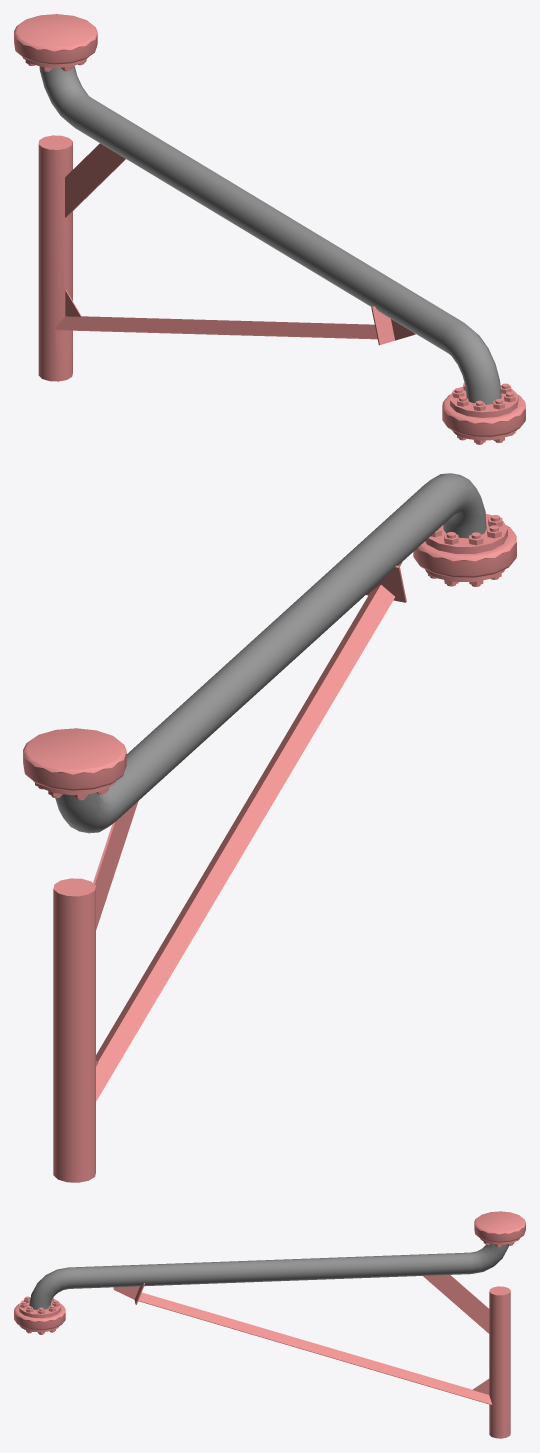
File: SM_SUG_All_Right.gltf
The picture shows the model from 3 angles, top to bottom: view 1: azimuth 30°, elevation 25°; view 2: azimuth 150°, elevation 25°; view 3: azimuth 270°, elevation 25°; orthographic projection. The views are drawn at different scales.
Visible parts, largest first — view 1: SM_SUG_All_Right; view 2: SM_SUG_All_Right; view 3: SM_SUG_All_Right.
Boxes of the visible parts, left/top/right/bottom form: SM_SUG_All_Right: left=14, top=14, right=525, bottom=444; SM_SUG_All_Right: left=23, top=473, right=516, bottom=1182; SM_SUG_All_Right: left=14, top=1211, right=525, bottom=1438.
Bounding box in the file's own units: 0.2889 × 0.7373 × 1.61.
